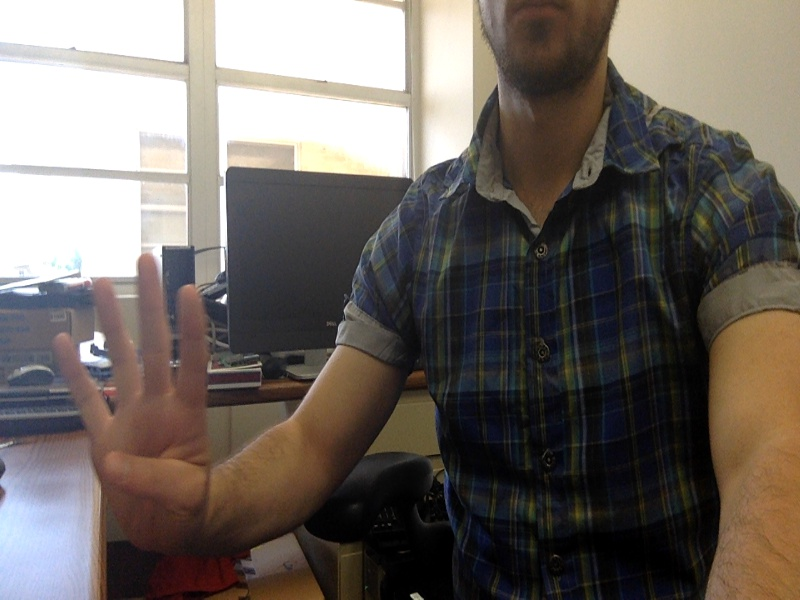4-hand: (48, 256, 214, 545)
